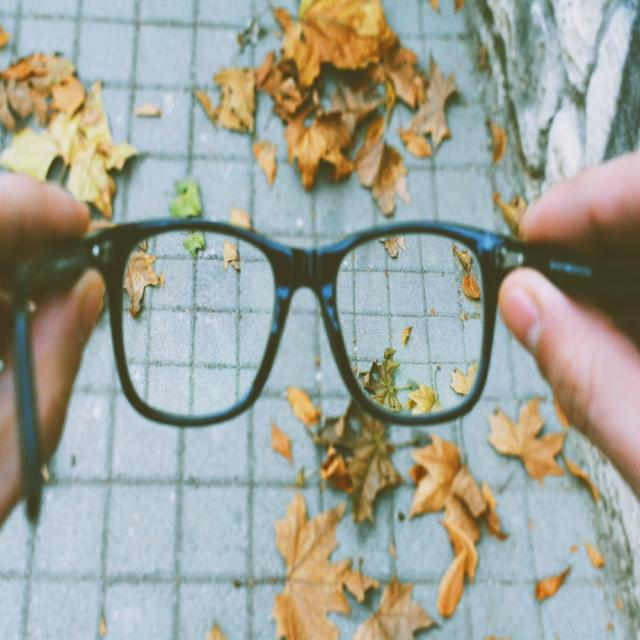Glasses: (11, 204, 613, 536)
